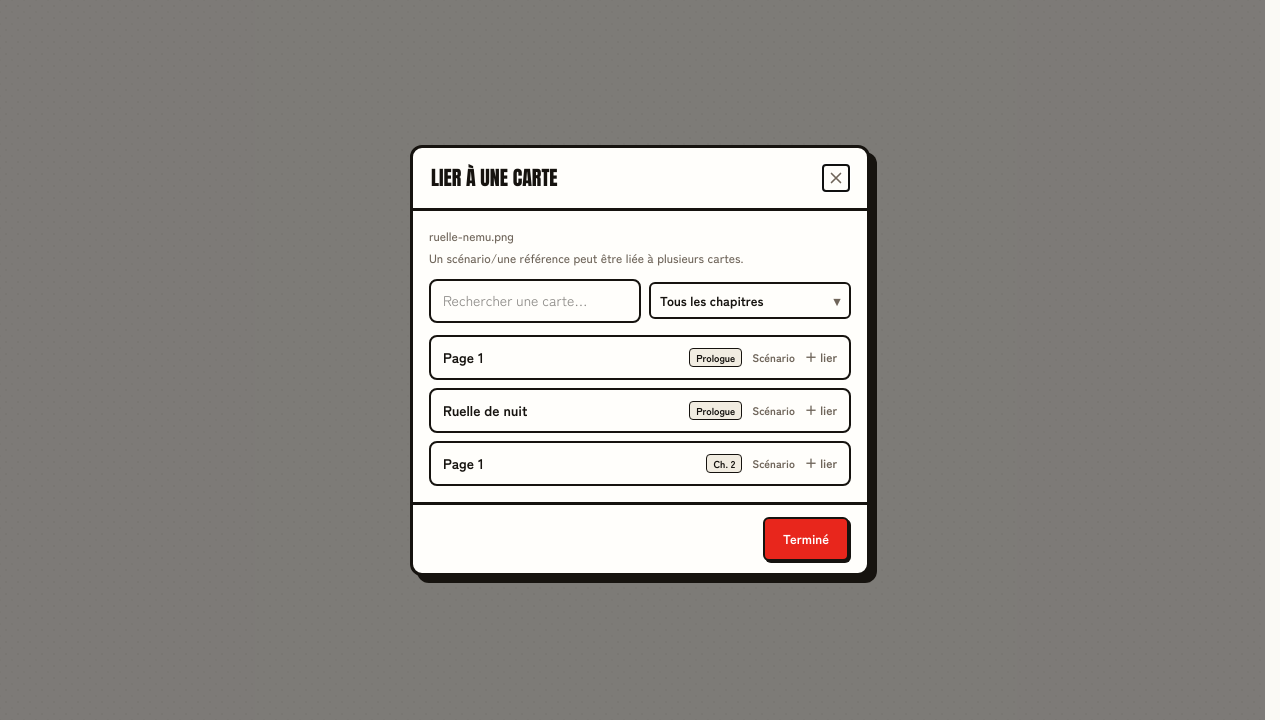
Test case: LinkCardModal › filters (R7-1) › composes the two filters
The width and height of the screenshot is (1280, 720).
Type "page" into the search field labelled "Rechercher une carte" at [535, 300], box [429,278,641,322]
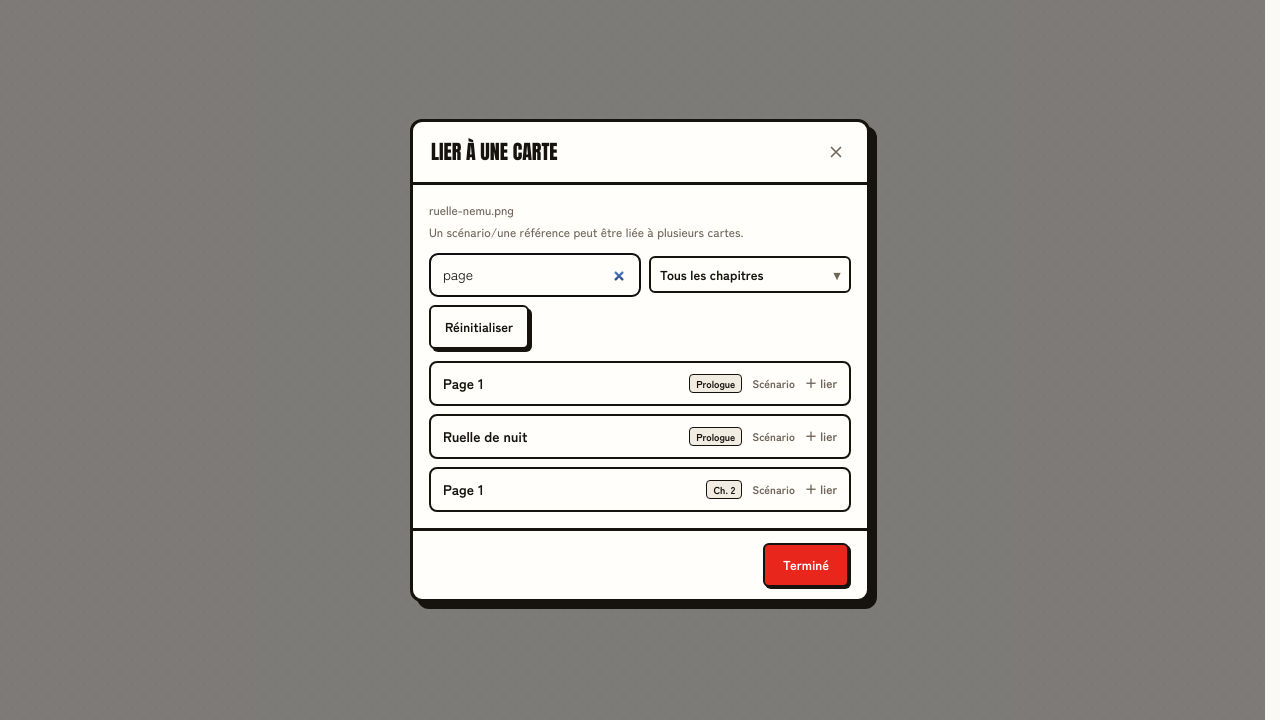
Click the dropdown named "Filtrer par chapitre" at [750, 275], box [649,256,851,293]
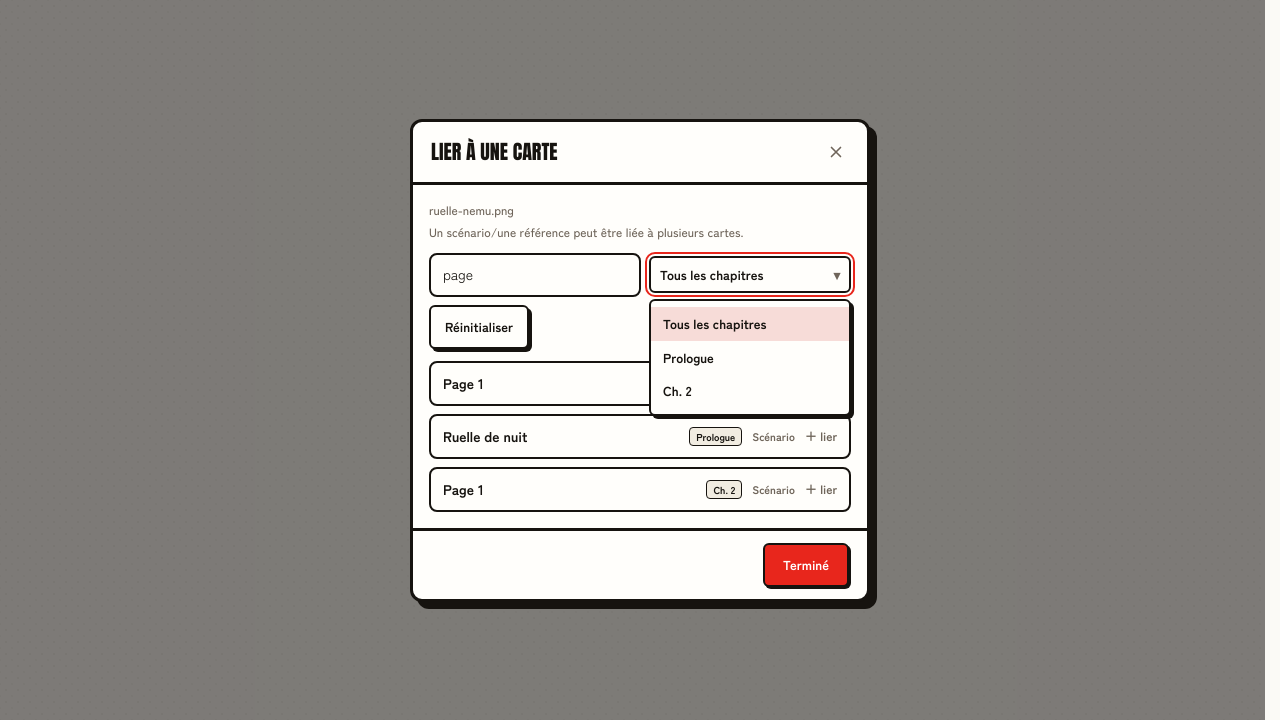
Click the option "Prologue" at [688, 357], box [663,348,714,367]
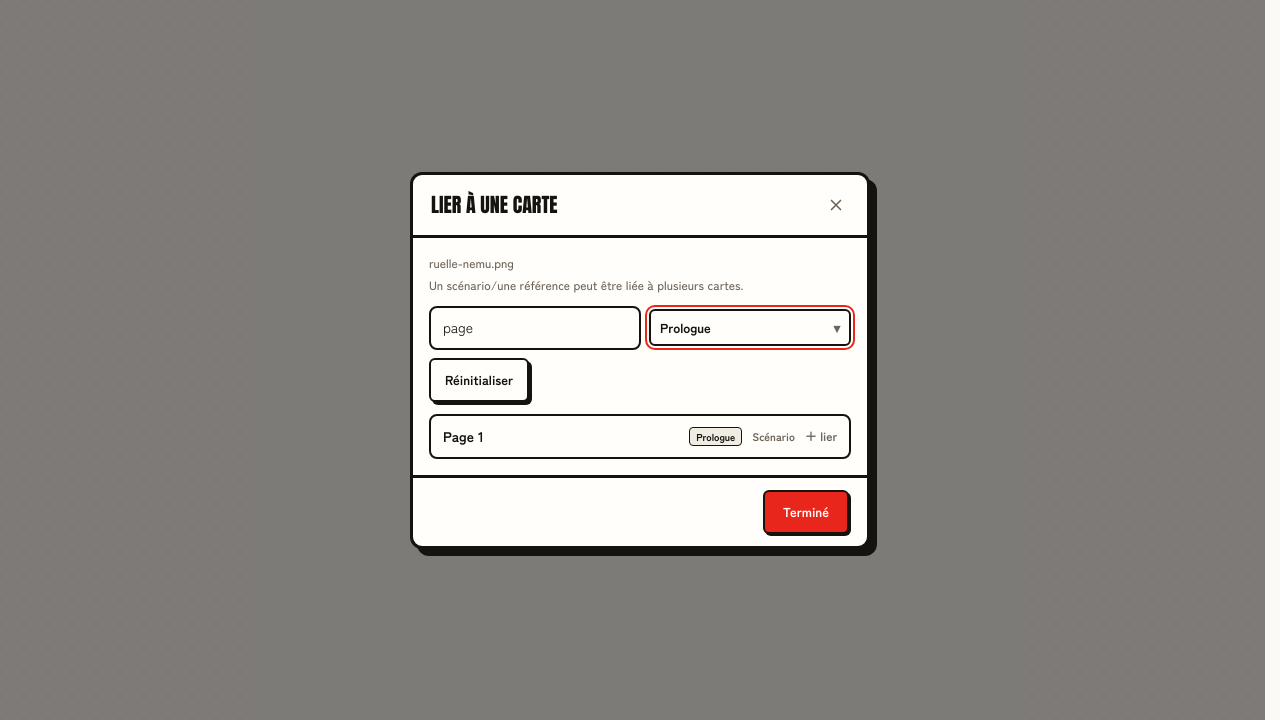
Expected: the button "Page 1 Prologue Scénario ＋ lier" is shown, [429,414,851,458]
Now the number of buttons "Page 1 Prologue Scénario ＋ lier" is 1, box [429,414,851,458]
